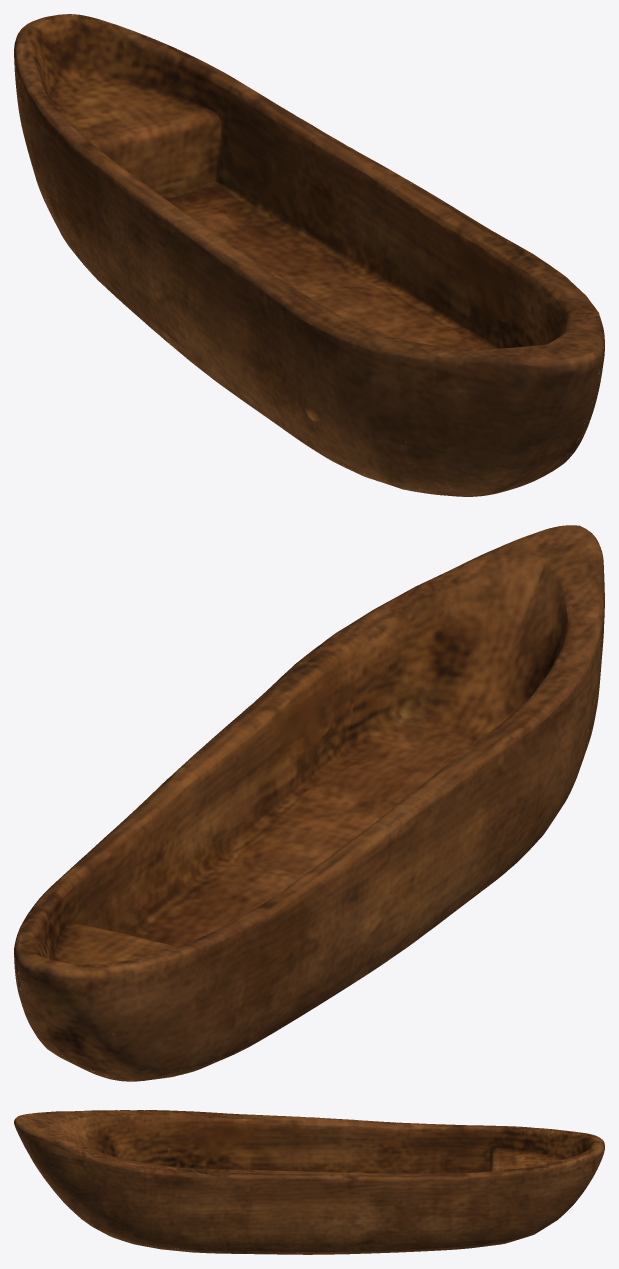
Rendered from dugout-canoe-model.glb.
3 views of the same model, one above another, from view 1: azimuth 30°, elevation 25°; view 2: azimuth 150°, elevation 25°; view 3: azimuth 270°, elevation 25° (orthographic). The views are drawn at different scales.
Visible parts, largest first — view 1: Mesh_0; view 2: Mesh_0; view 3: Mesh_0.
Part boxes in pixels (left/top/right/bottom): Mesh_0: left=14, top=14, right=604, bottom=496; Mesh_0: left=14, top=525, right=604, bottom=1081; Mesh_0: left=14, top=1110, right=604, bottom=1254.
Size of the model in its own units: 0.9973 by 0.9071 by 3.8.
Materials: 1 (1 with a texture image).
